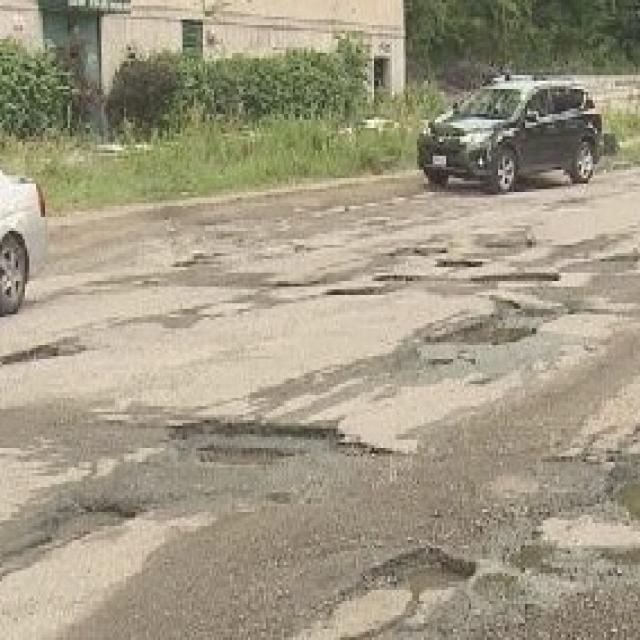road-pothole: (318, 213, 543, 306), (296, 537, 484, 637), (0, 486, 143, 583), (157, 410, 346, 469), (427, 294, 578, 358), (601, 440, 638, 536)
